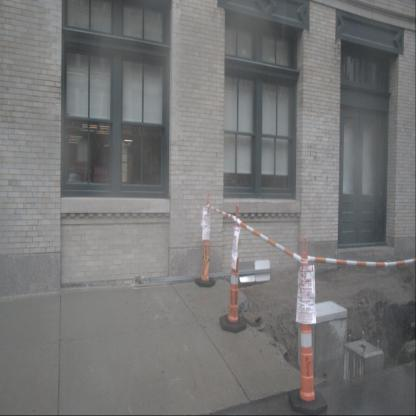cone: (288, 236, 328, 416), (219, 204, 247, 333), (194, 192, 216, 288)
